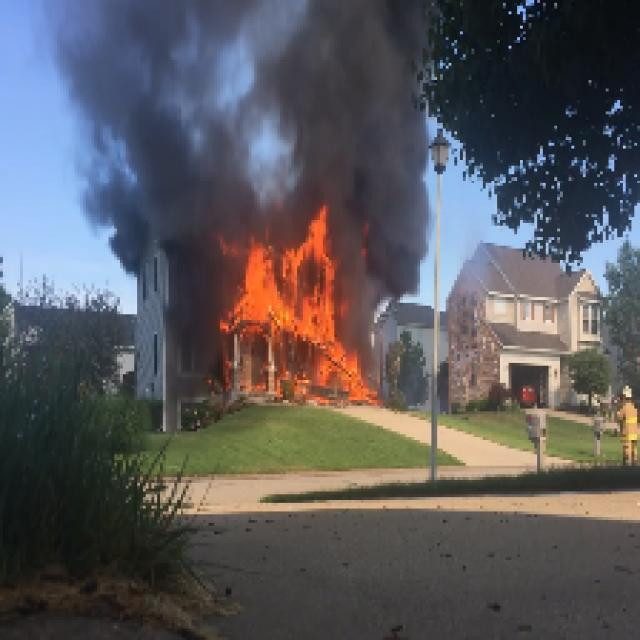Fire: (292, 206, 334, 374), (217, 242, 286, 332)
Smoke: (54, 3, 257, 234), (260, 3, 429, 203), (354, 206, 432, 346)
